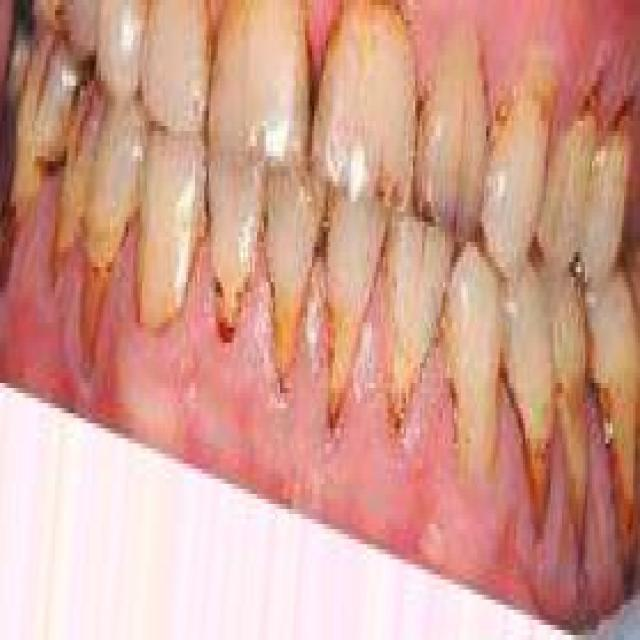calculus: (311, 0, 413, 211), (72, 79, 140, 368), (130, 124, 202, 360), (268, 152, 328, 408), (374, 210, 438, 446), (484, 36, 552, 258), (206, 127, 266, 376), (503, 264, 555, 534), (418, 35, 492, 224), (598, 274, 640, 594), (211, 0, 312, 126), (446, 262, 501, 486), (324, 192, 369, 445), (556, 250, 593, 529), (549, 56, 600, 245), (594, 92, 636, 262)
